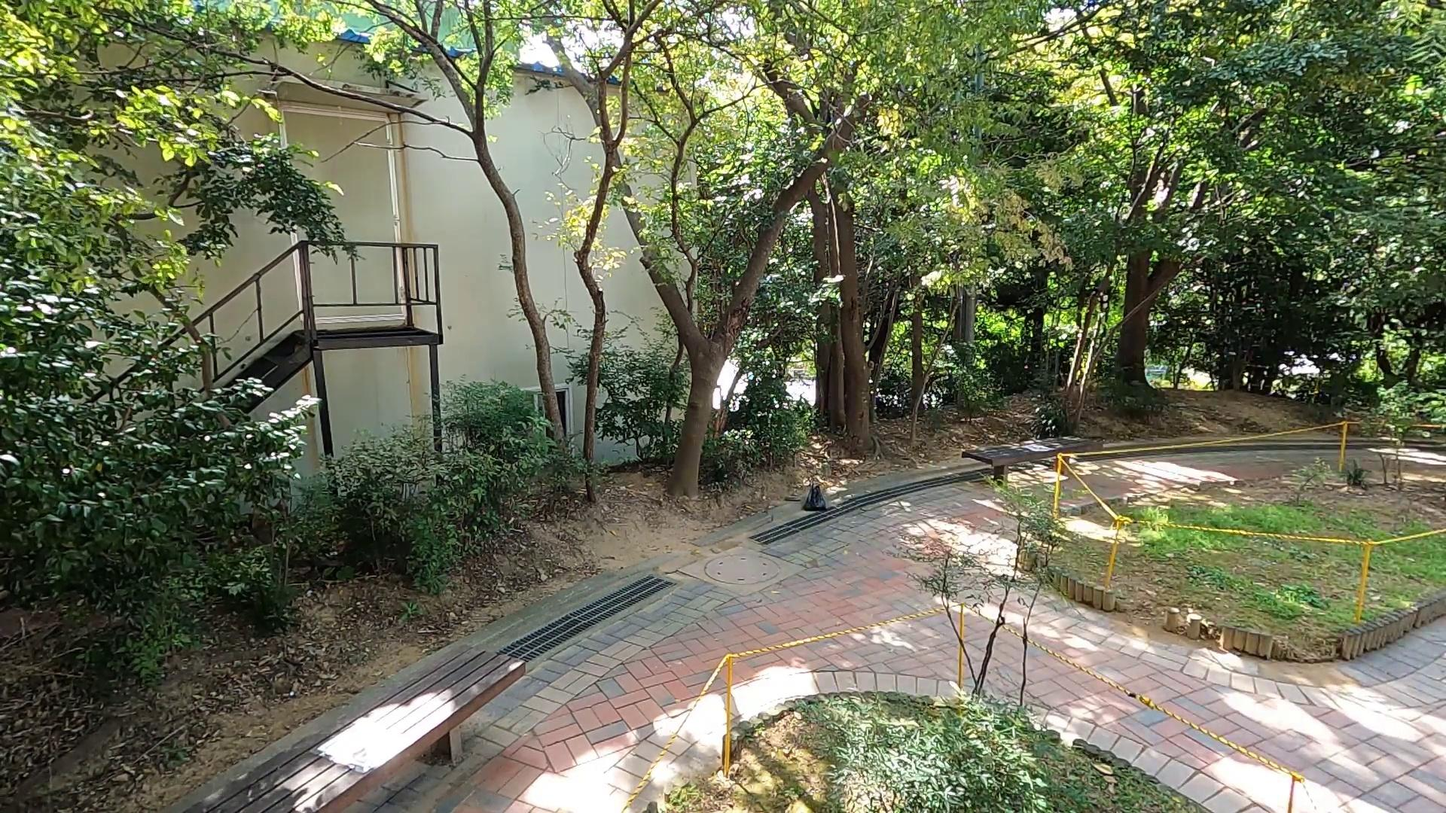trash: (801, 484, 828, 512)
